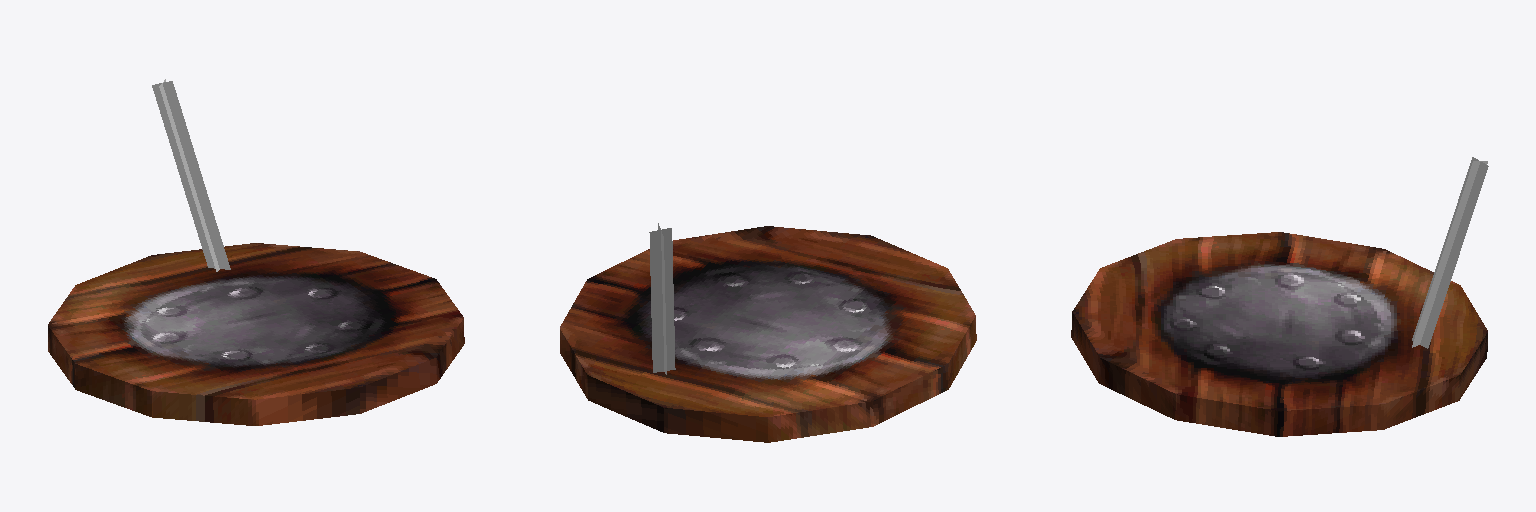
3 views of the same model, side by side, from view 1: azimuth 30°, elevation 25°; view 2: azimuth 150°, elevation 25°; view 3: azimuth 270°, elevation 25° (orthographic).
Visible parts, largest first — view 1: object 1; view 2: object 1; view 3: object 1.
Boxes of the visible parts, x1=… form: object 1: x1=48, y1=79, x2=464, y2=425; object 1: x1=560, y1=223, x2=976, y2=442; object 1: x1=1071, y1=157, x2=1488, y2=436.
Bounding box in the file's own units: 1.01 × 0.5415 × 1.01.
2 materials, 1 textured.